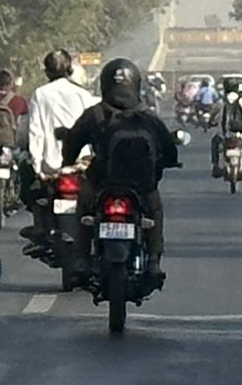BikeWithRider: (46, 52, 194, 339), (12, 42, 108, 296), (204, 70, 242, 197)
Helmet: (93, 52, 148, 115)
NoHelmet: (37, 44, 78, 87), (221, 75, 240, 98)
